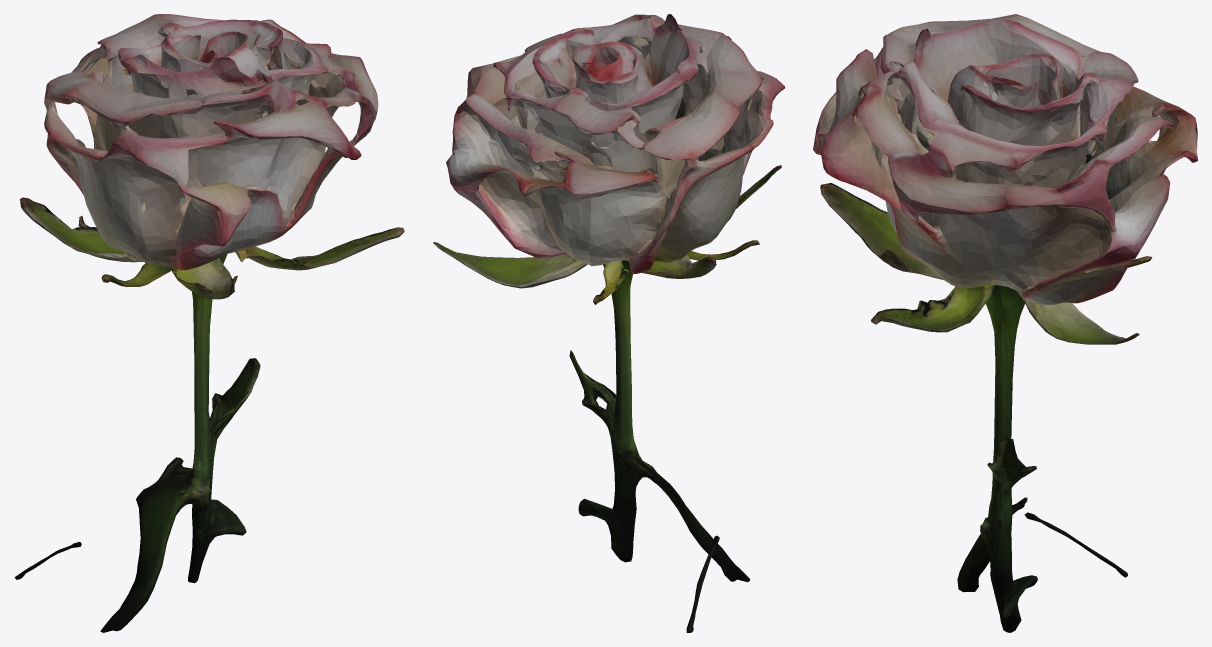
3 renders of one model, left to right at view 1: azimuth 30°, elevation 25°; view 2: azimuth 150°, elevation 25°; view 3: azimuth 270°, elevation 25°, orthographic. The views are drawn at different scales.
Parts seen in each view (by area): view 1: world; view 2: world; view 3: world.
Boxes of the visible parts, x1=… form: world: x1=14, y1=14, x2=404, y2=632; world: x1=433, y1=14, x2=784, y2=632; world: x1=813, y1=14, x2=1197, y2=632.
Size of the model in its own units: 0.5706 by 0.9995 by 0.5731.
Materials: 1 (1 with a texture image).
